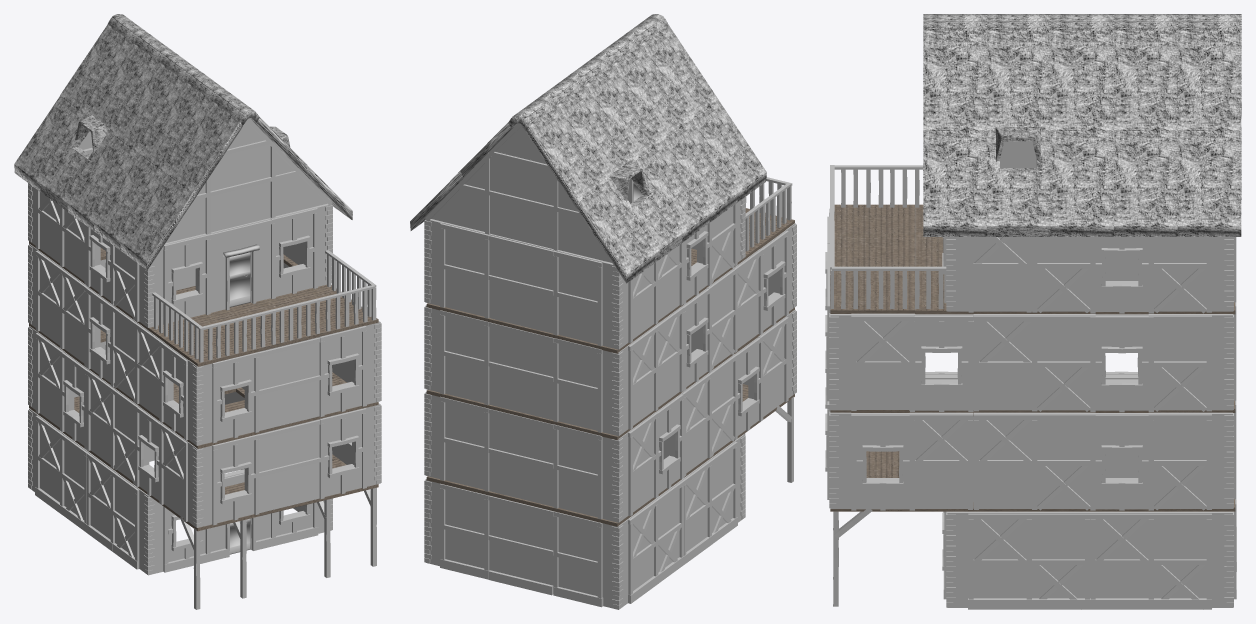
Rendered from house_5.fbx.
The picture shows the model from 3 angles, left to right: view 1: azimuth 30°, elevation 25°; view 2: azimuth 150°, elevation 25°; view 3: azimuth 270°, elevation 25°; orthographic projection. The views are drawn at different scales.
Parts seen in each view (by area): view 1: puerta_1.008, techo_paja_1x3.015, piso_4x4.008; view 2: puerta_1.008, techo_paja_1x3.015, piso_4x4.008; view 3: puerta_1.008, techo_paja_1x3.015, piso_4x4.008.
Part boxes in pixels (x1,y1,x2,y2): puerta_1.008: (28,118,381,609); techo_paja_1x3.015: (14,14,352,270); piso_4x4.008: (29,241,378,531); puerta_1.008: (424,123,796,609); techo_paja_1x3.015: (410,14,766,283); piso_4x4.008: (426,208,794,526); puerta_1.008: (825,141,1236,609); techo_paja_1x3.015: (923,14,1241,236); piso_4x4.008: (830,204,1235,511).
Bounding box in the file's own units: 1347 × 2803 × 1962.
